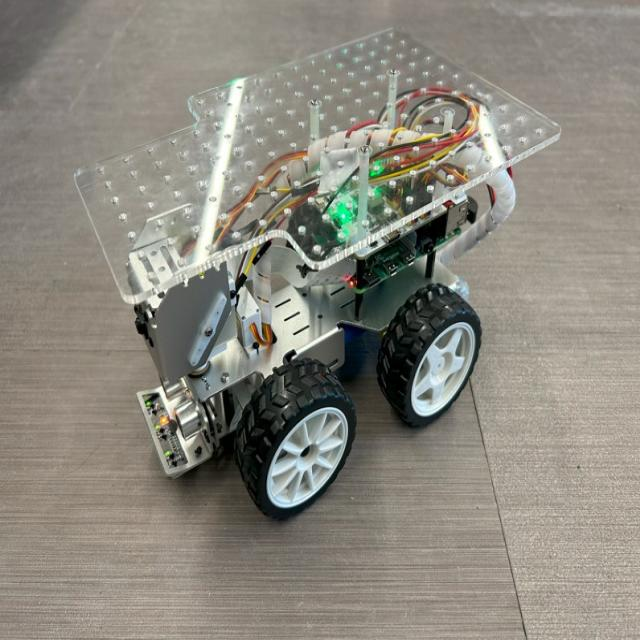vehicle: (63, 40, 570, 533)
